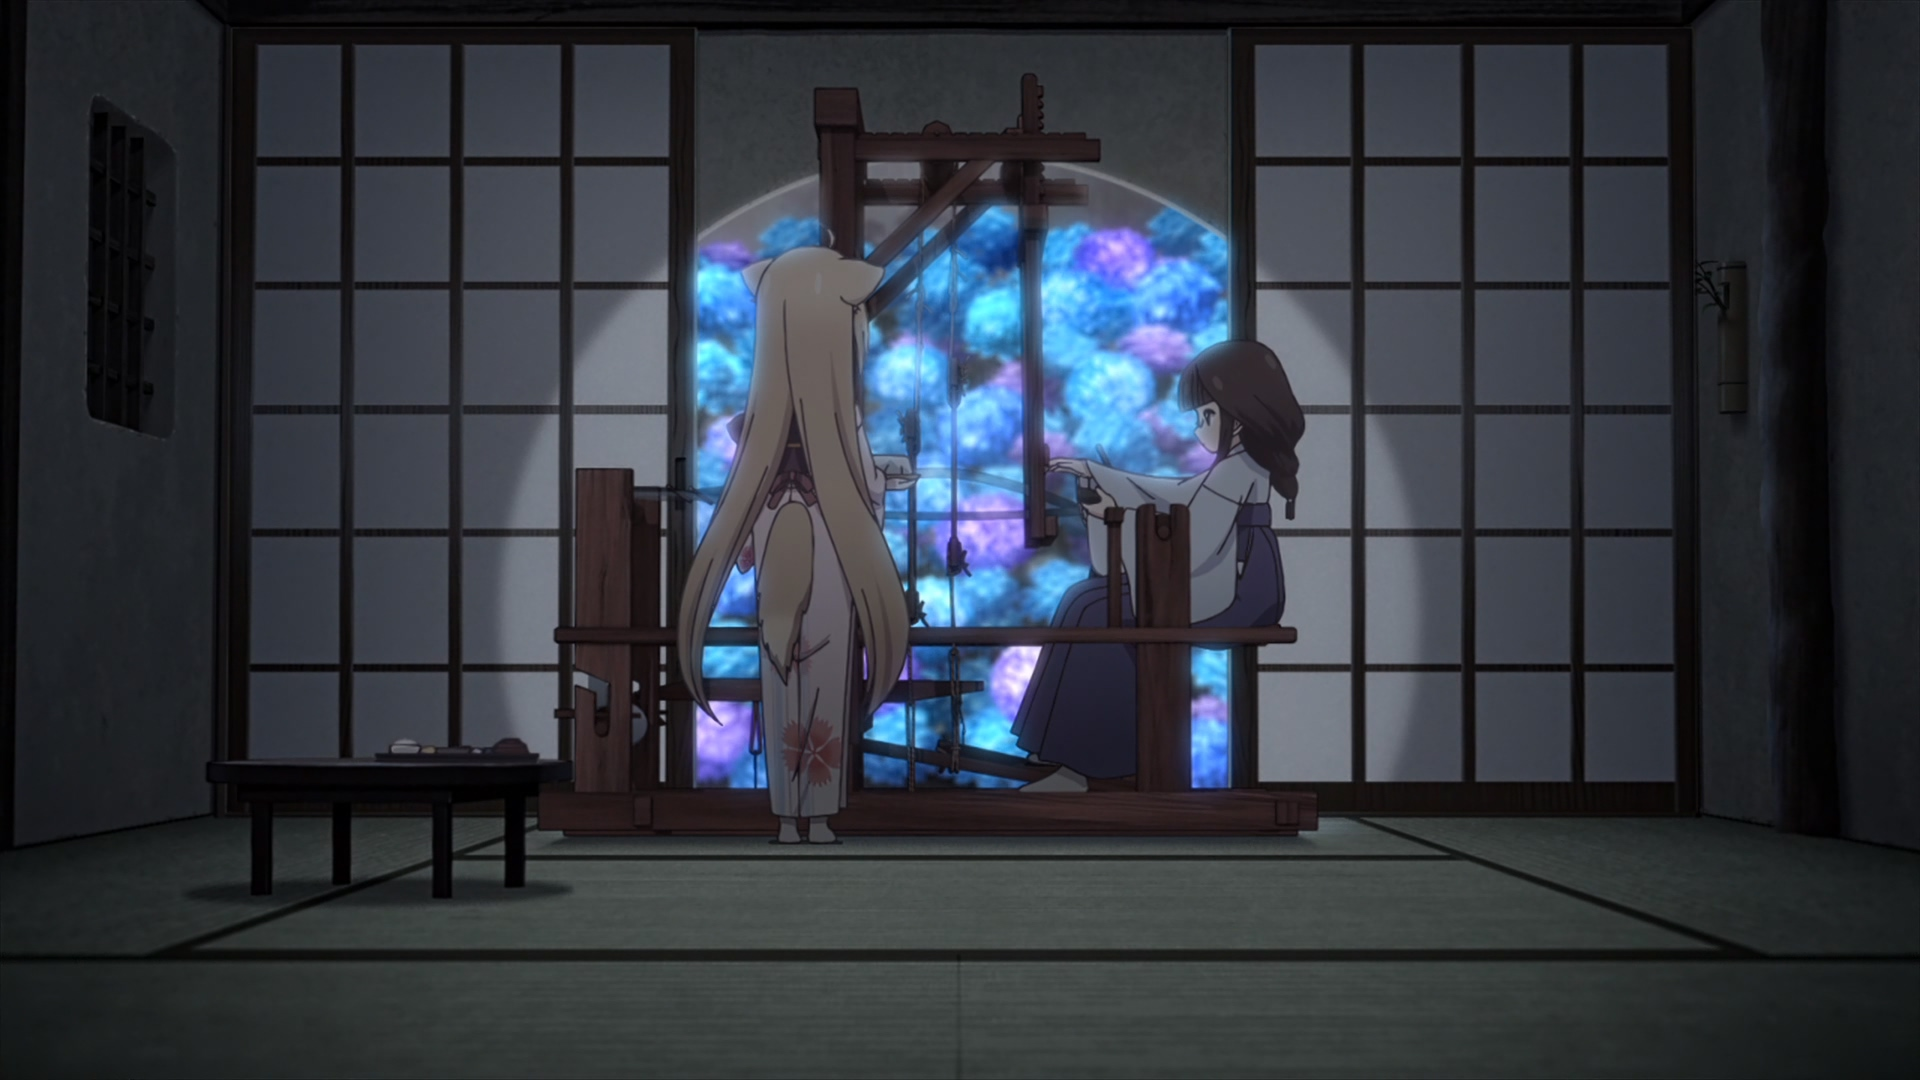其他: (1014, 340, 1308, 793)
柚: (676, 225, 920, 847)
